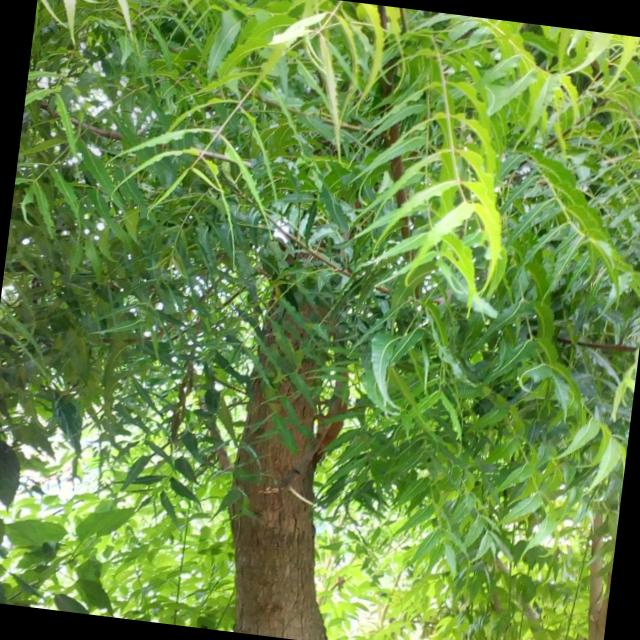Medicinal-Neem: (95, 0, 640, 356)
